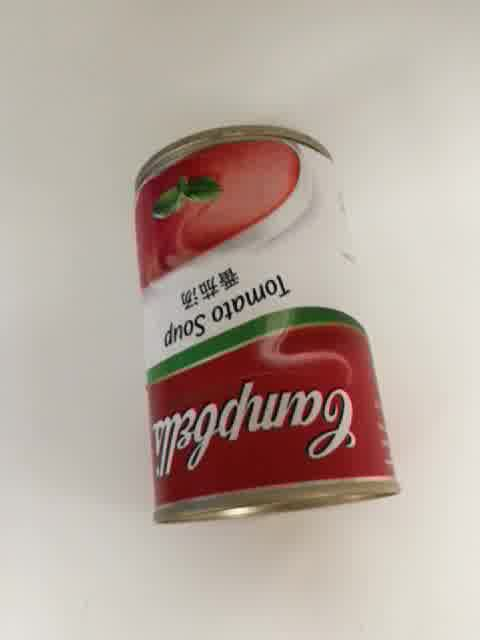tomatosoup: (131, 118, 402, 528)
